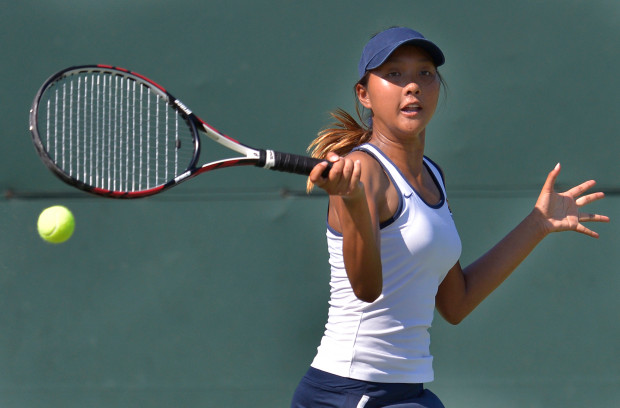tennis ball: (34, 203, 81, 249)
tennis player: (294, 20, 610, 408)
